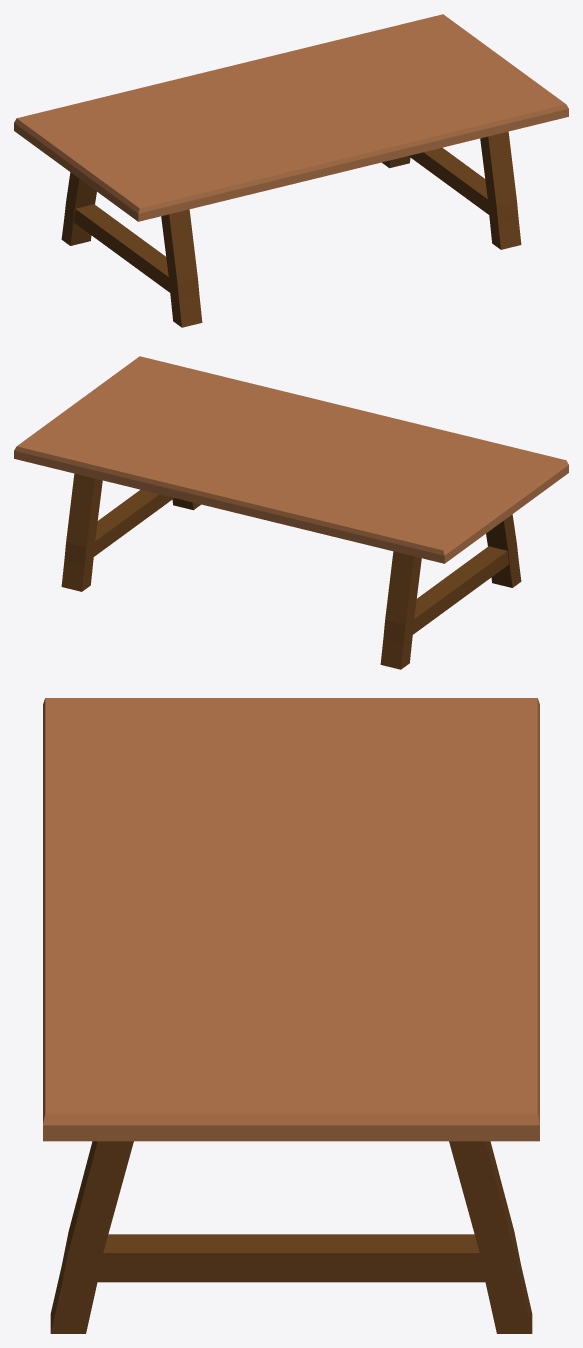
Rendered from woodtable.fbx.
3 renders of one model, top to bottom at view 1: azimuth 30°, elevation 25°; view 2: azimuth 150°, elevation 25°; view 3: azimuth 270°, elevation 25°, orthographic. The views are drawn at different scales.
Visible parts, largest first — view 1: Cube.001; view 2: Cube.001; view 3: Cube.001.
Part boxes in pixels (x1,y1,x2,y2): Cube.001: (14,14,568,327); Cube.001: (14,356,568,669); Cube.001: (43,698,539,1333).
Bounding box in the file's own units: 2160 × 628 × 1080.
